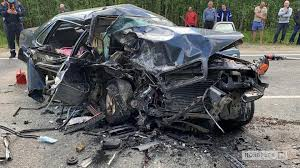car: (24, 8, 269, 137)
